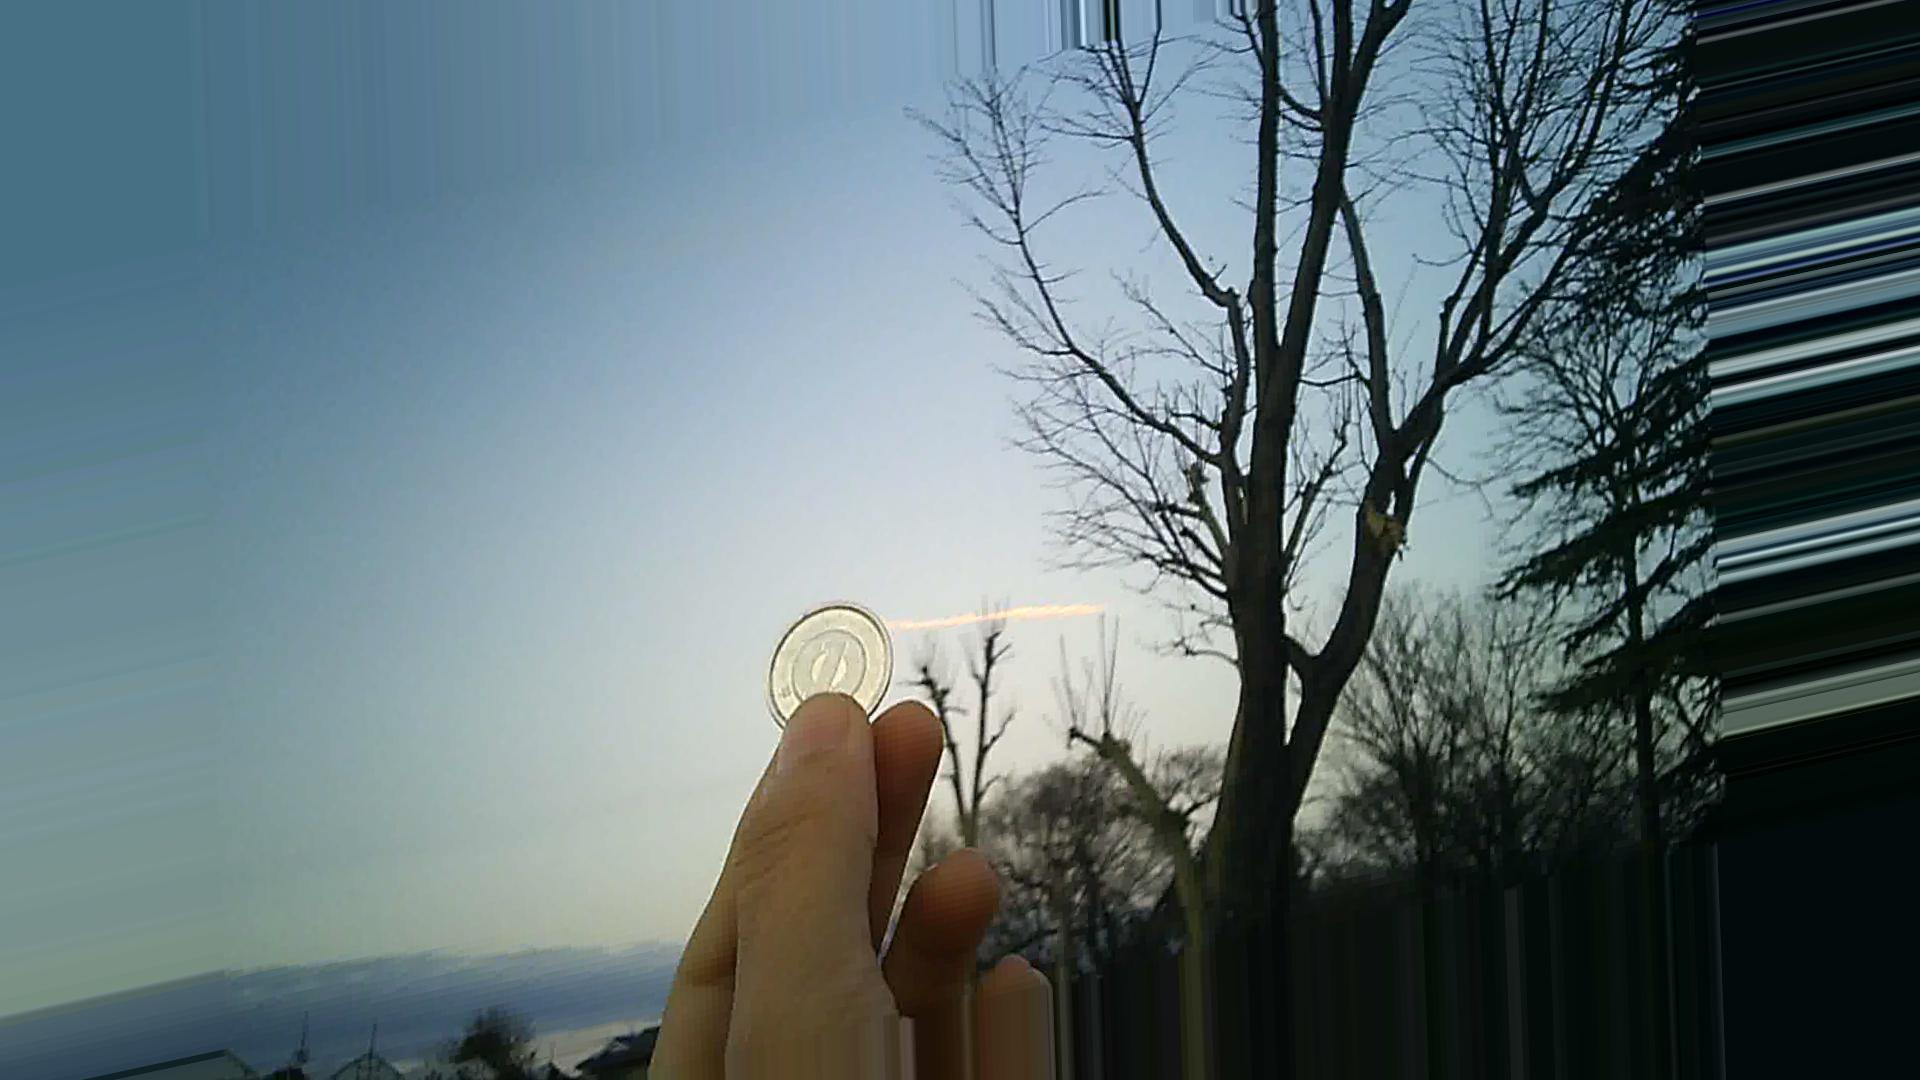1 Yen: (761, 595, 891, 727)
